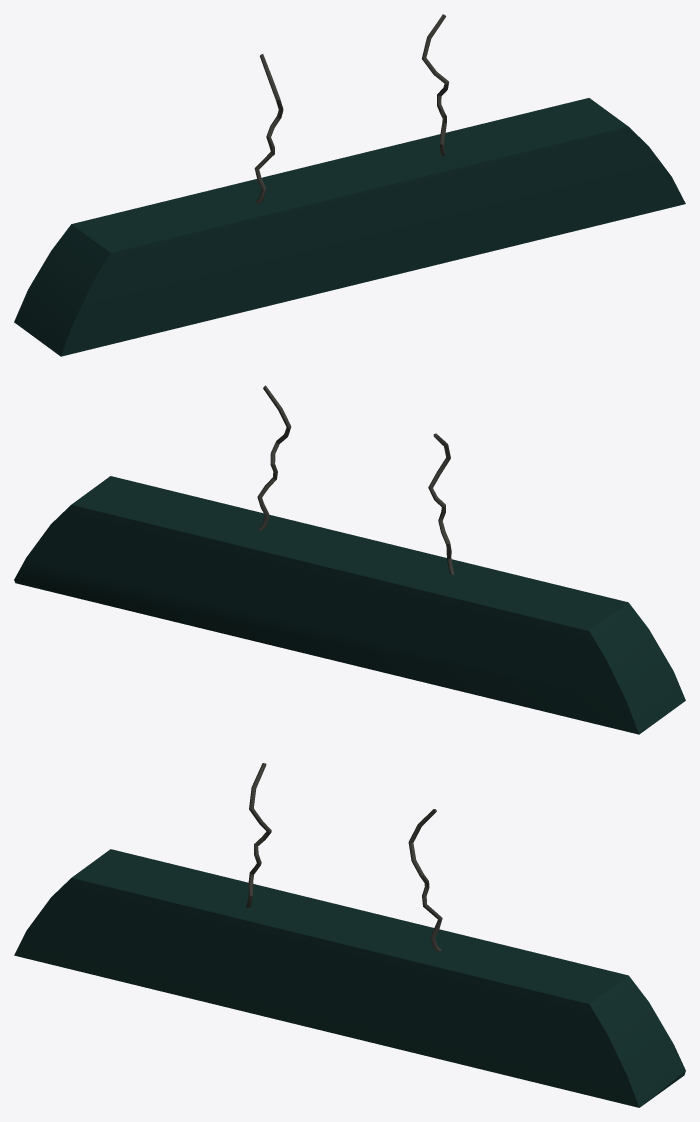
Rendered from RoofLamp.fbx.
3 renders of one model, top to bottom at view 1: azimuth 30°, elevation 25°; view 2: azimuth 150°, elevation 25°; view 3: azimuth 330°, elevation 25°, orthographic.
Visible parts, largest first — view 1: Cube.043; view 2: Cube.043; view 3: Cube.043.
Part boxes in pixels (x1,y1,x2,y2): Cube.043: [14, 14, 685, 356]; Cube.043: [14, 385, 685, 734]; Cube.043: [14, 763, 685, 1107].
Bounding box in the file's own units: 256 × 91.27 × 33.5.
